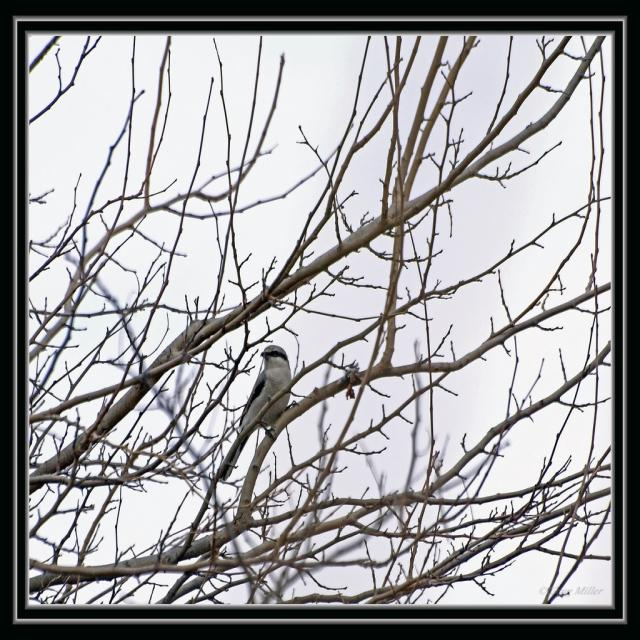bird: (218, 342, 299, 478)
